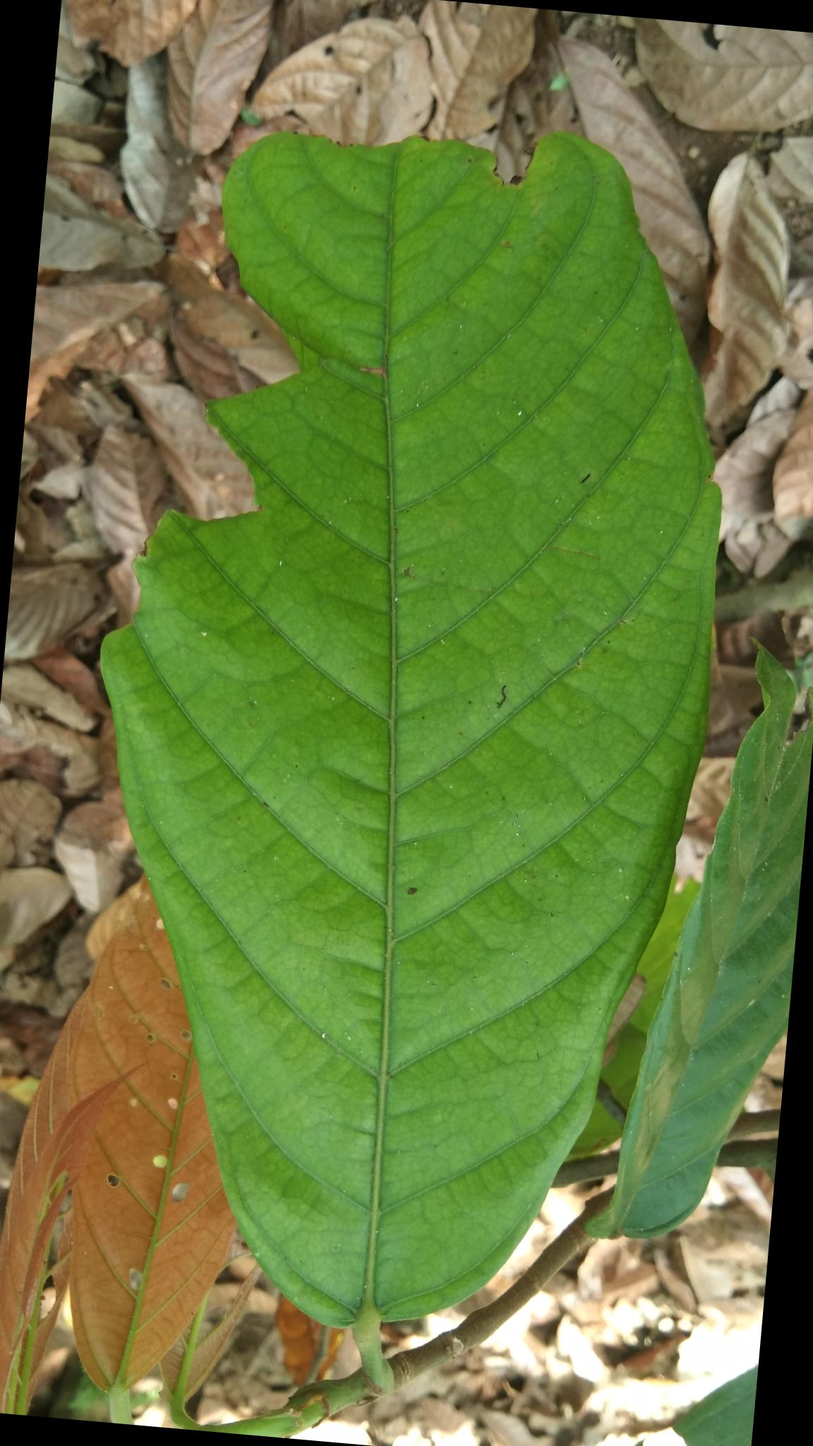Fosforo: (101, 133, 720, 1327), (595, 650, 810, 1237)
